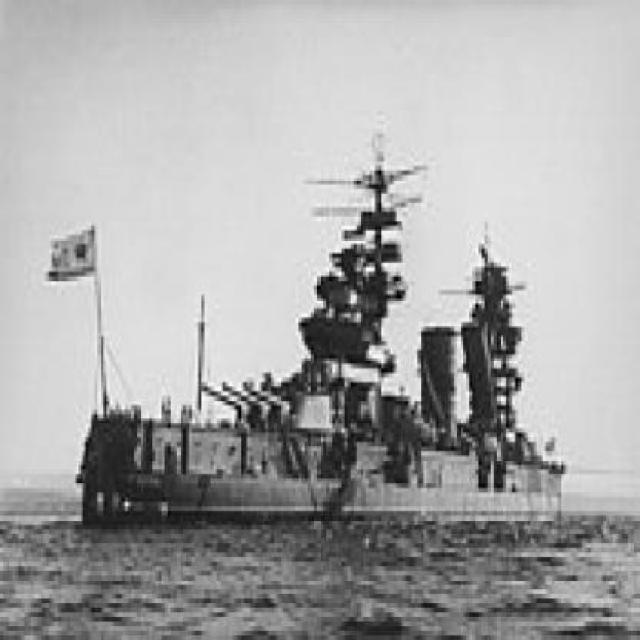warship2: (65, 97, 592, 568)
